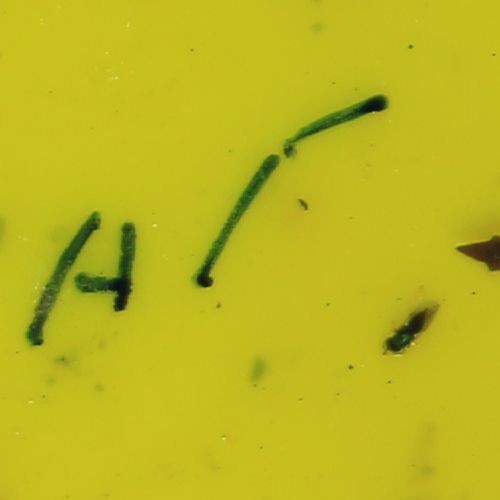wasp: (384, 306, 434, 357)
